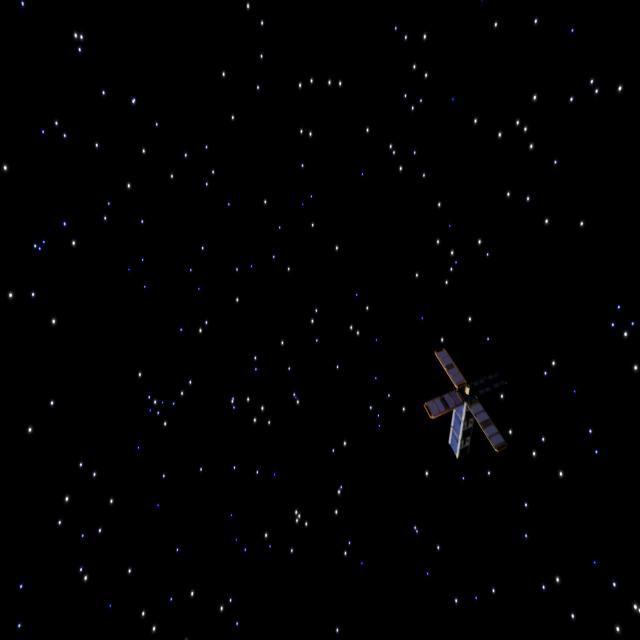medium_debris: (411, 336, 507, 466)
